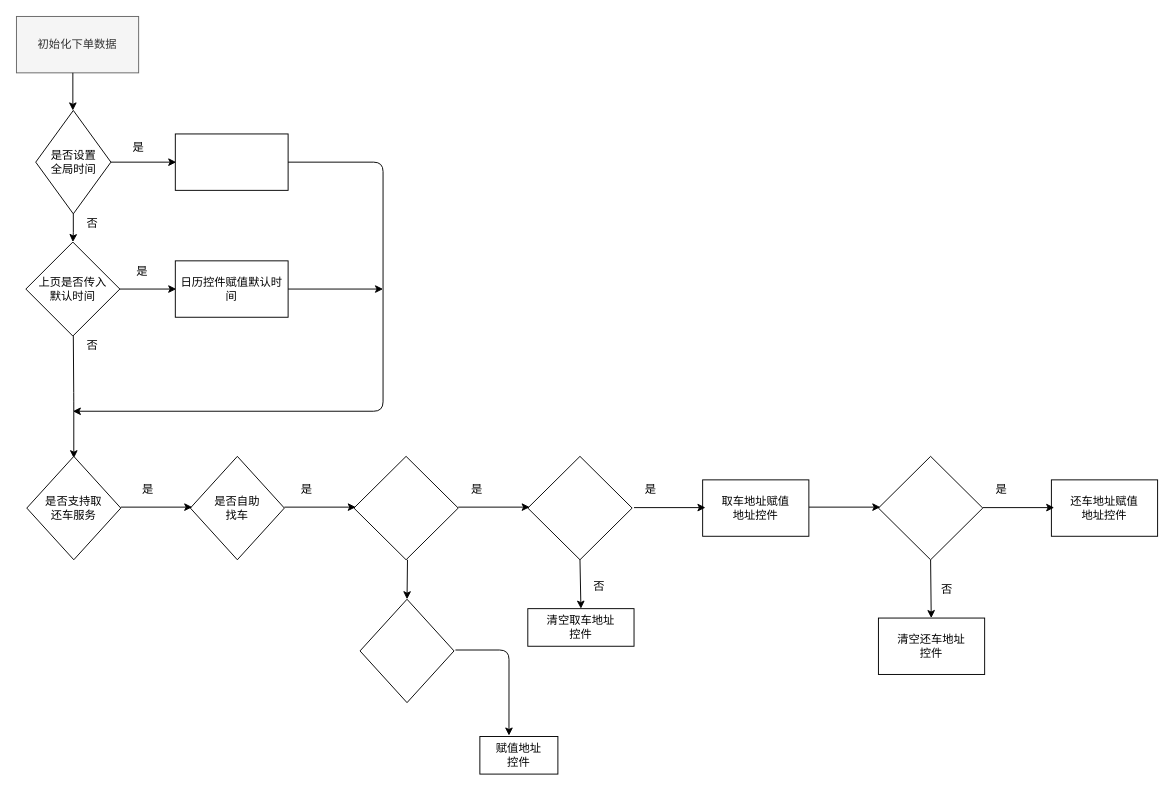
Some shapes in this 1174 by 791 pixel diagram are drawn without their labels. The shapes that lost their labels are listed below. From the top down, each one's box as (x1, y1, x2, y2) in pixels, then its label:
(174, 133, 288, 190): 日历控件赋值全局时间
(353, 455, 458, 560): 上页面传 入的取还 车是否都 存在
(527, 455, 632, 560): 取车地址 是否在取 还车范围
(877, 455, 983, 560): 换车地址 是否在取 还车范围
(359, 598, 454, 703): 定位经纬度 是否都存在
